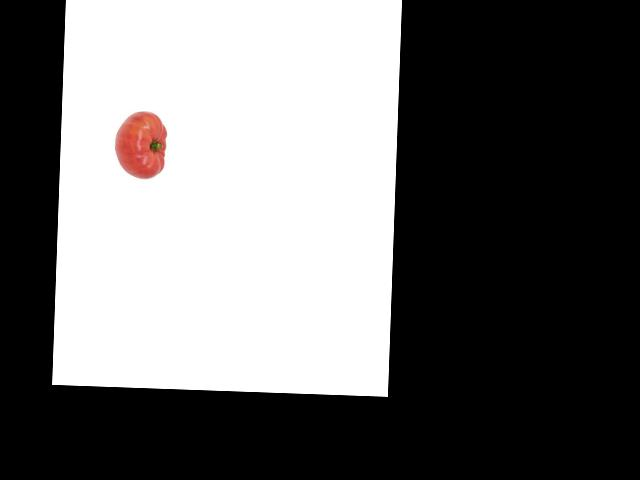tomato: (114, 110, 166, 179)
